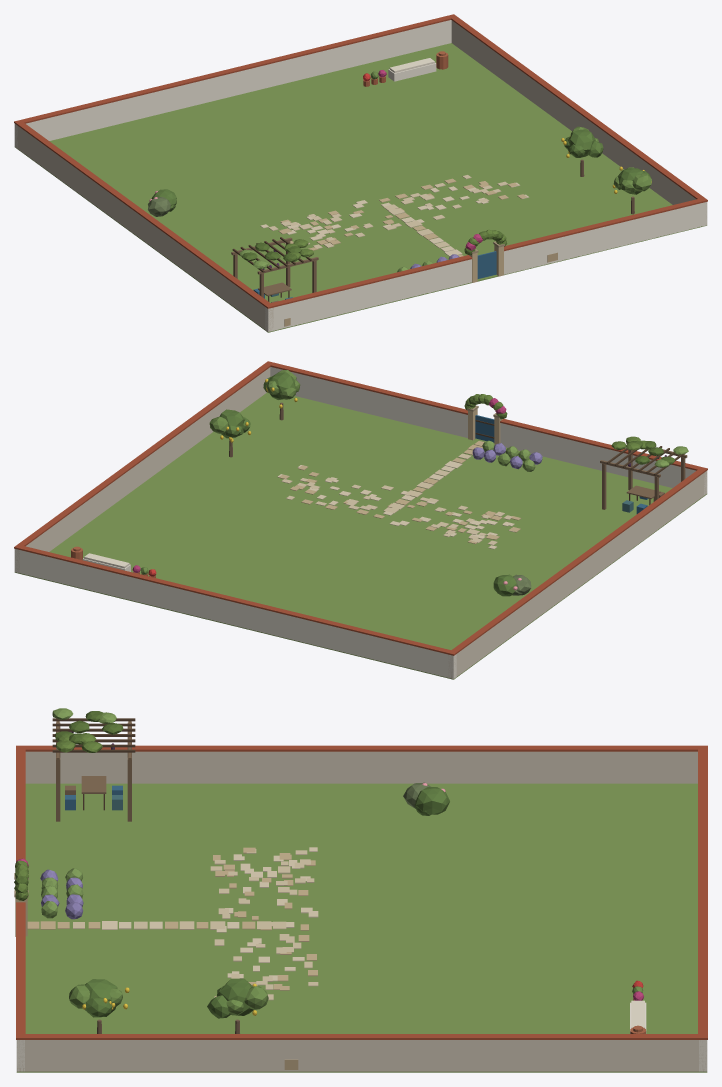
Rendered from bahce-arsasi-cardakli.glb.
3 renders of one model, top to bottom at view 1: azimuth 30°, elevation 25°; view 2: azimuth 150°, elevation 25°; view 3: azimuth 270°, elevation 25°, orthographic. The views are drawn at different scales.
Parts seen in each view (by area): view 1: cim, badana, badana_kir, kiremit2, tas2, tas1, yaprak2, tas4, ahsap, asma2, yaprak1, asma (+1 smaller); view 2: cim, badana, badana_kir, kiremit2, tas2, tas1, yaprak2, tas4, ahsap, yaprak3, yaprak1, lavanta (+4 smaller); view 3: cim, badana_kir, kiremit2, yaprak2, tas1, tas2, tas4, ahsap_koyu, ahsap, yaprak1, yaprak3, asma (+3 smaller).
Boxes of the visible parts, <box> form: cim: <box>15,43,706,332</box>; badana: <box>14,20,707,331</box>; badana_kir: <box>14,20,706,331</box>; kiremit2: <box>14,14,707,308</box>; tas2: <box>278,178,526,282</box>; tas1: <box>268,175,507,248</box>; yaprak2: <box>151,129,650,211</box>; tas4: <box>260,182,529,256</box>; ahsap: <box>231,237,318,302</box>; asma2: <box>242,231,503,261</box>; yaprak1: <box>371,71,651,191</box>; asma: <box>284,229,507,259</box>; cim: <box>14,392,706,679</box>; badana: <box>14,367,707,678</box>; badana_kir: <box>14,367,707,678</box>; kiremit2: <box>14,361,707,655</box>; tas2: <box>278,409,521,543</box>; tas1: <box>281,453,512,545</box>; yaprak2: <box>219,372,516,596</box>; tas4: <box>277,461,514,549</box>; ahsap: <box>600,443,687,509</box>; yaprak3: <box>482,440,688,471</box>; yaprak1: <box>140,370,300,574</box>; lavanta: <box>472,443,542,469</box>; cim: <box>16,783,707,1072</box>; badana_kir: <box>16,751,707,1071</box>; kiremit2: <box>16,745,707,1039</box>; yaprak2: <box>85,787,449,1018</box>; tas1: <box>73,850,318,1000</box>; tas2: <box>15,847,317,996</box>; tas4: <box>102,847,318,997</box>; ahsap_koyu: <box>52,718,135,810</box>; ahsap: <box>56,721,131,821</box>; yaprak1: <box>69,984,643,1014</box>; yaprak3: <box>41,708,116,918</box>; asma: <box>14,733,102,900</box>.
Bounding box in the file's own units: 25.06 × 3.24 × 25.13.
